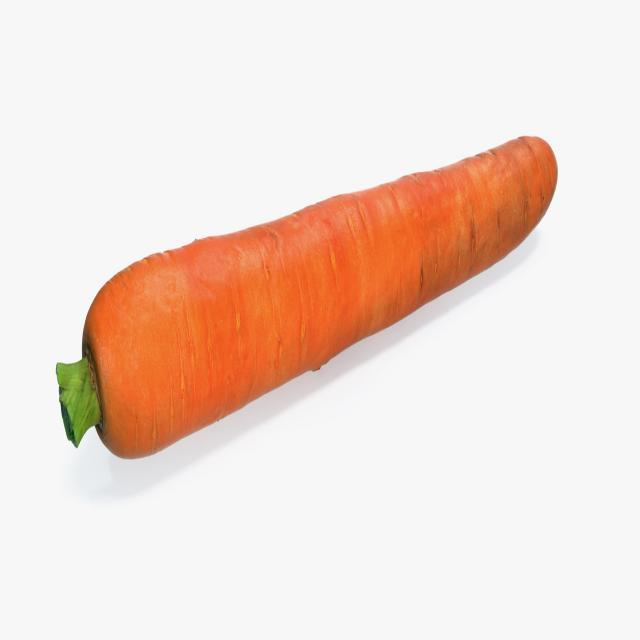carrot: (54, 134, 560, 470)
